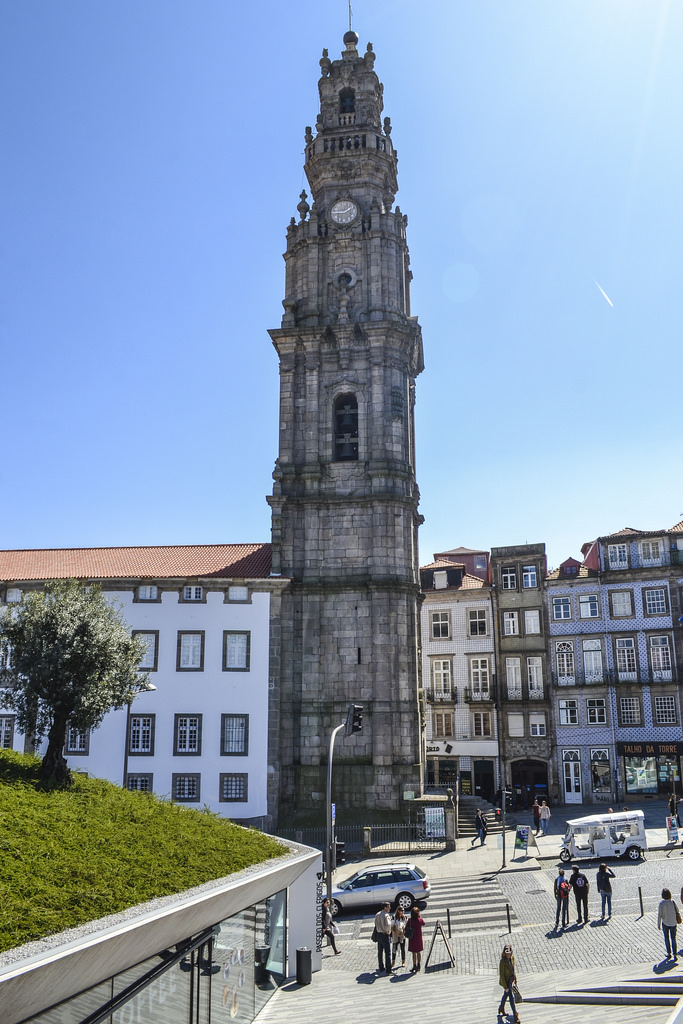clerigos: (265, 0, 426, 831)
